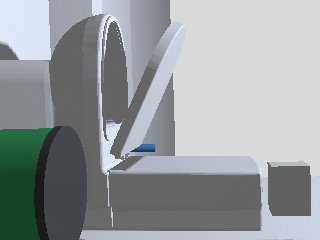lid_1: (110, 22, 184, 157)
